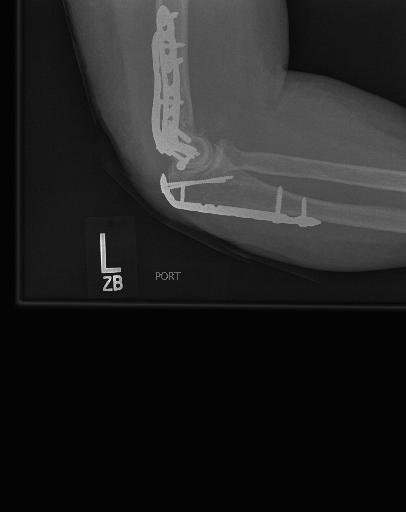elbow positive: (173, 166, 228, 213), (170, 110, 215, 136)
